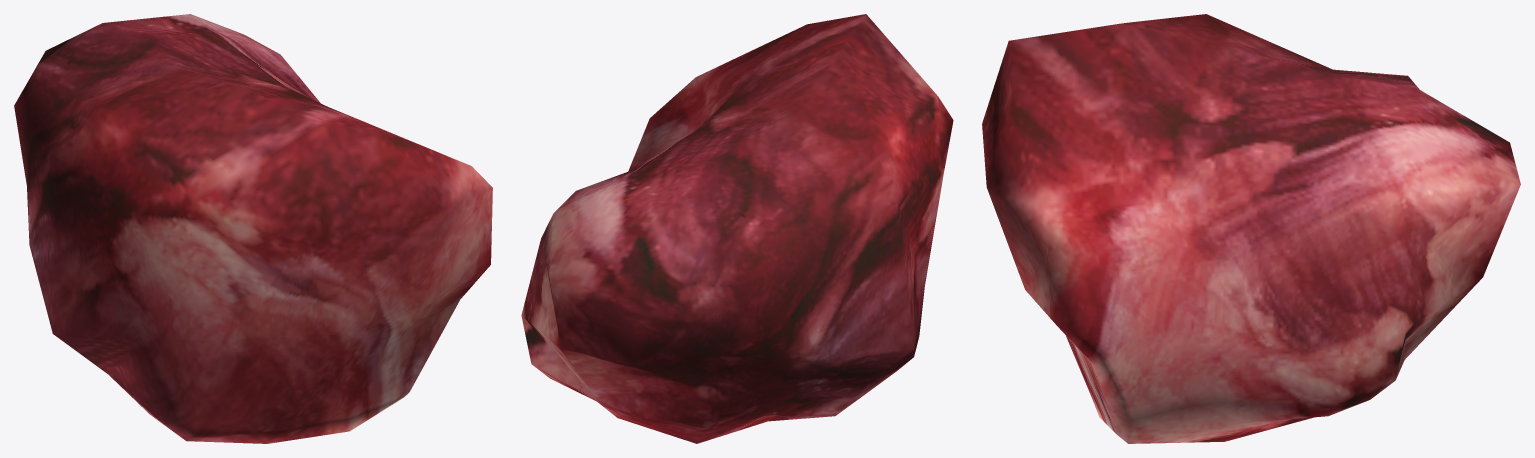
The model's file is gibMedium.dae.
3 renders of one model, left to right at view 1: azimuth 30°, elevation 25°; view 2: azimuth 150°, elevation 25°; view 3: azimuth 270°, elevation 25°, orthographic. The views are drawn at different scales.
Parts seen in each view (by area): view 1: mediumGib; view 2: mediumGib; view 3: mediumGib.
Part boxes in pixels (<box>): mediumGib: <box>14,14,492,443</box>; mediumGib: <box>521,14,953,443</box>; mediumGib: <box>982,14,1520,443</box>.
Size of the model in its own units: 0.4869 by 0.4933 by 0.6596.
1 material, 1 textured.
